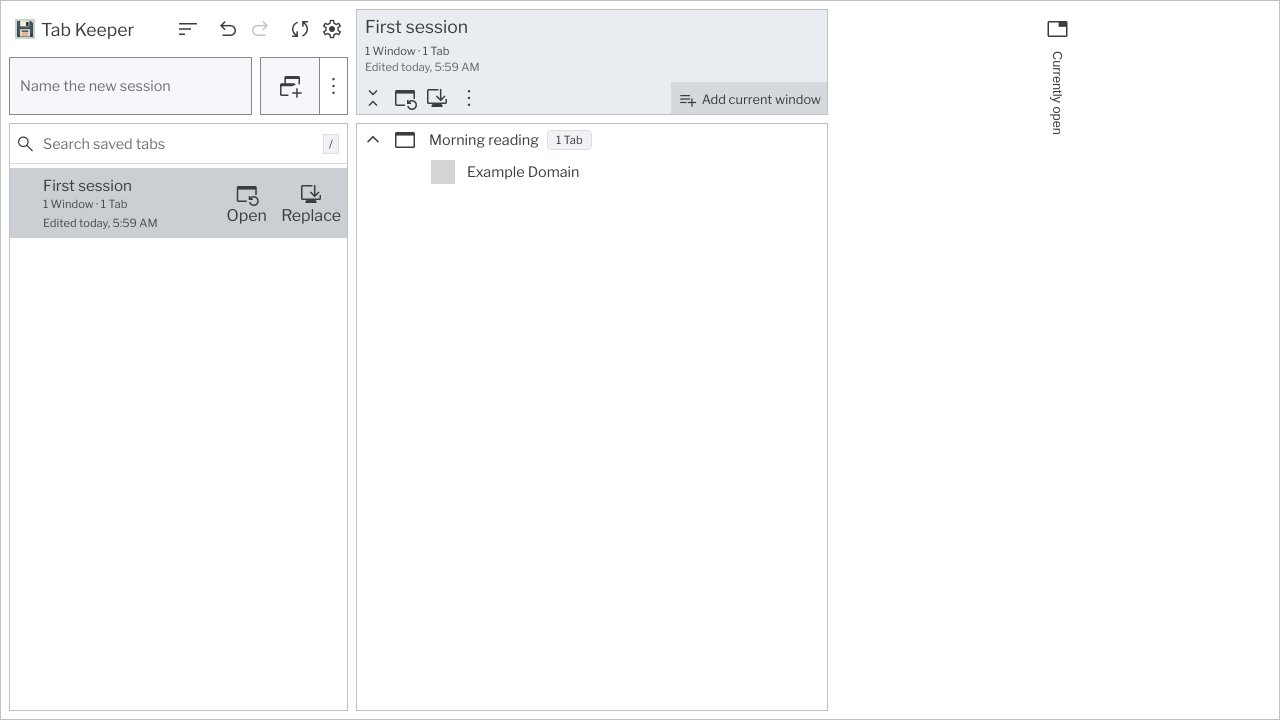
Scenario: the / chip shows where / goes (KAN-800) › rail: the drawer’s field wears it while open; closed by Esc, the rail wears it and / opens the drawer into its search
Click the button with aria-label "Currently open, 3 Tabs": [1058, 76] box [1038,9,1078,143]
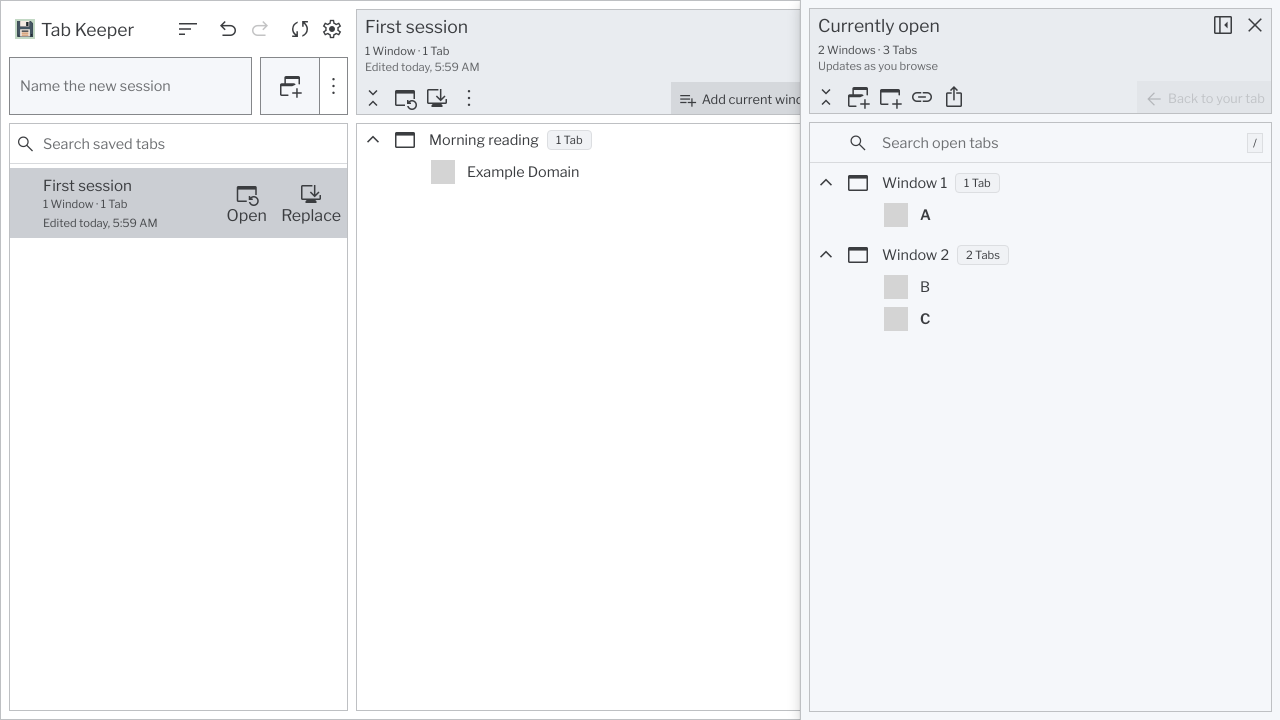
Press Escape
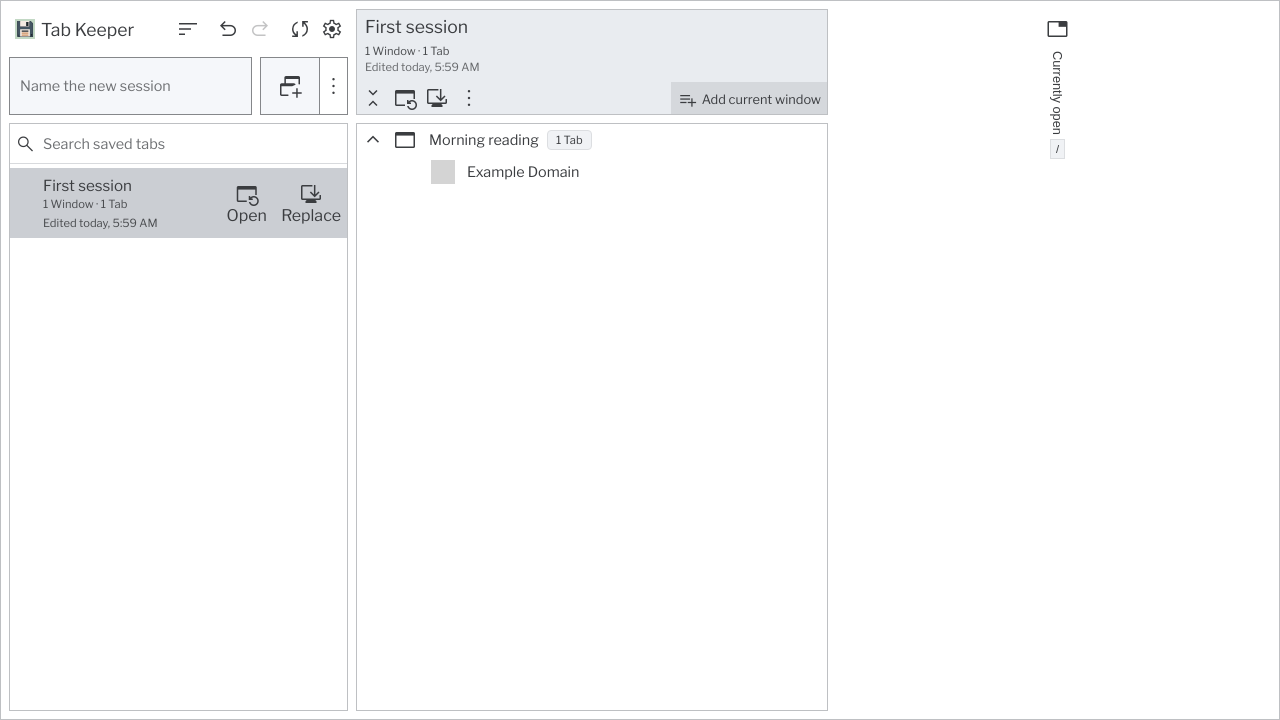
Expected: the text "/" is shown, [1050,139,1065,159]
Expected: the button with aria-label "Currently open, 3 Tabs" is collapsed, [1038,9,1078,163]
Type keys "/"
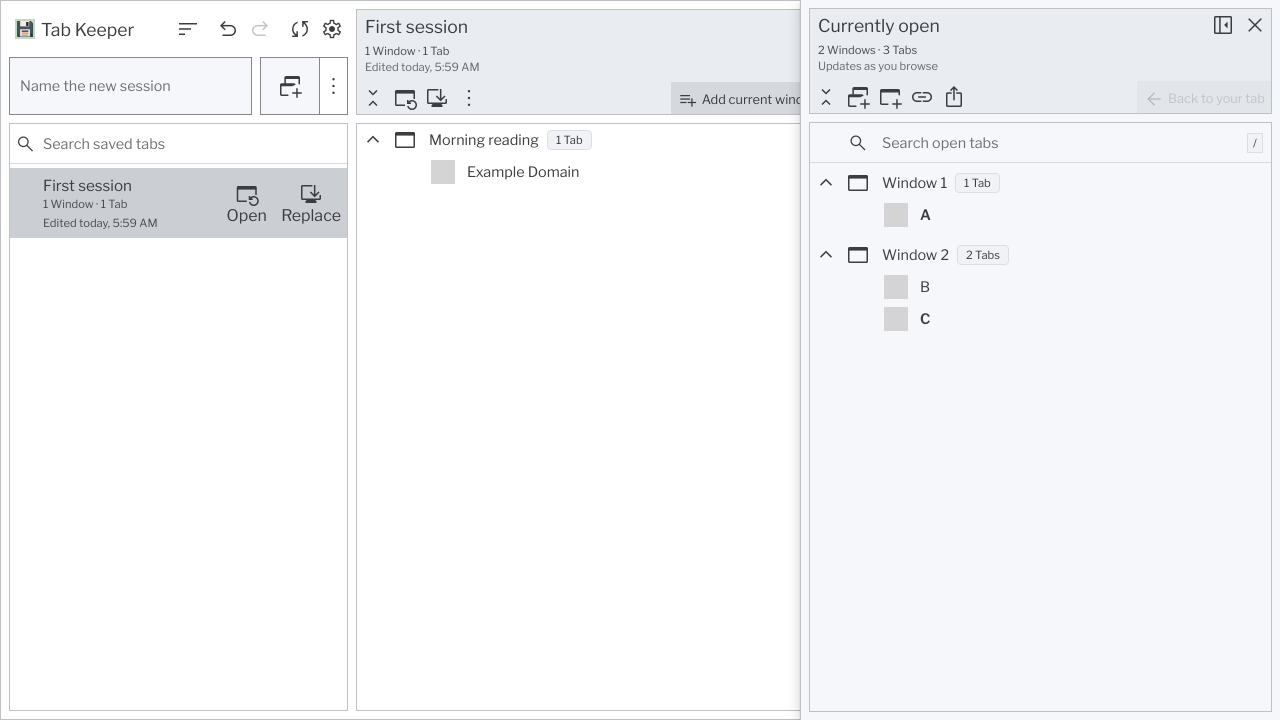
Expected: the button with aria-label "Currently open, 3 Tabs" is expanded, [1038,9,1078,143]
